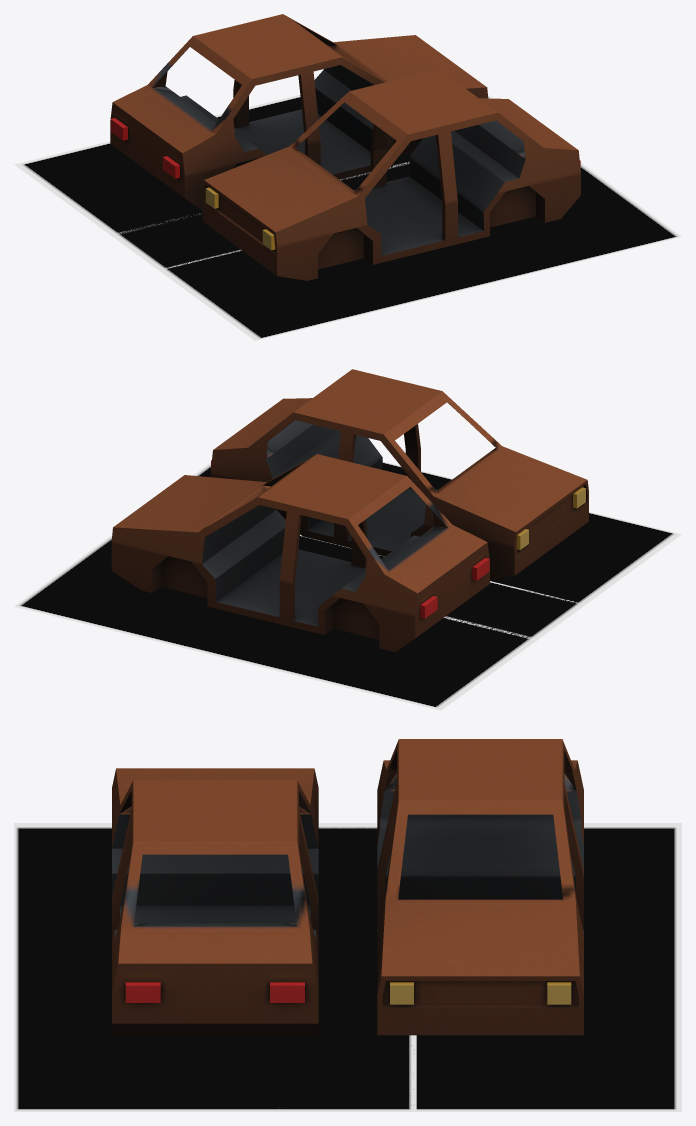
Rendered from 2x2_cars.FBX.
3 renders of one model, top to bottom at view 1: azimuth 30°, elevation 25°; view 2: azimuth 150°, elevation 25°; view 3: azimuth 270°, elevation 25°, orthographic. The views are drawn at different scales.
Parts seen in each view (by area): view 1: 2x2_cars, 2x2_cars_soft_shadow; view 2: 2x2_cars, 2x2_cars_soft_shadow; view 3: 2x2_cars, 2x2_cars_soft_shadow.
Part boxes in pixels (bbox=[...]): 2x2_cars: bbox=[110, 14, 580, 280]; 2x2_cars_soft_shadow: bbox=[14, 95, 681, 340]; 2x2_cars: bbox=[111, 369, 588, 652]; 2x2_cars_soft_shadow: bbox=[14, 461, 681, 710]; 2x2_cars: bbox=[112, 739, 583, 1036]; 2x2_cars_soft_shadow: bbox=[14, 823, 681, 1111].
Bounding box in the file's own units: 2575 × 731 × 2518.
